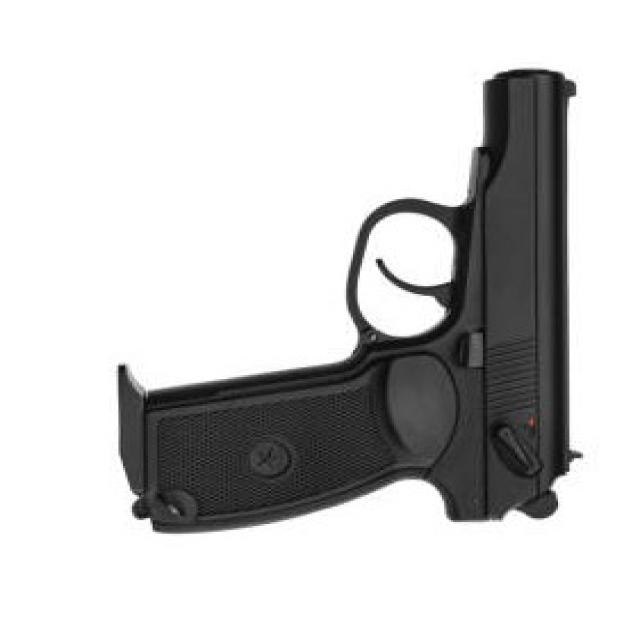pistol: (110, 65, 590, 539)
